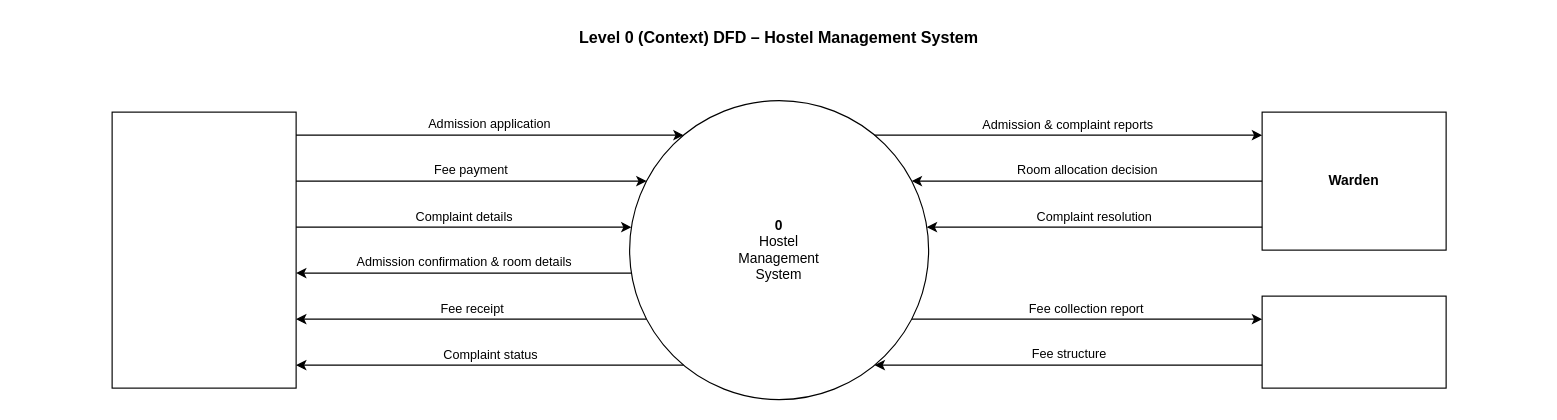
This 1557x420 diagram has some shape labels left out. Here are the shapes that lost their labels. From the top down, the centre of each, then its label:
(x=203, y=249): Student
(x=1353, y=341): Accounts Office
